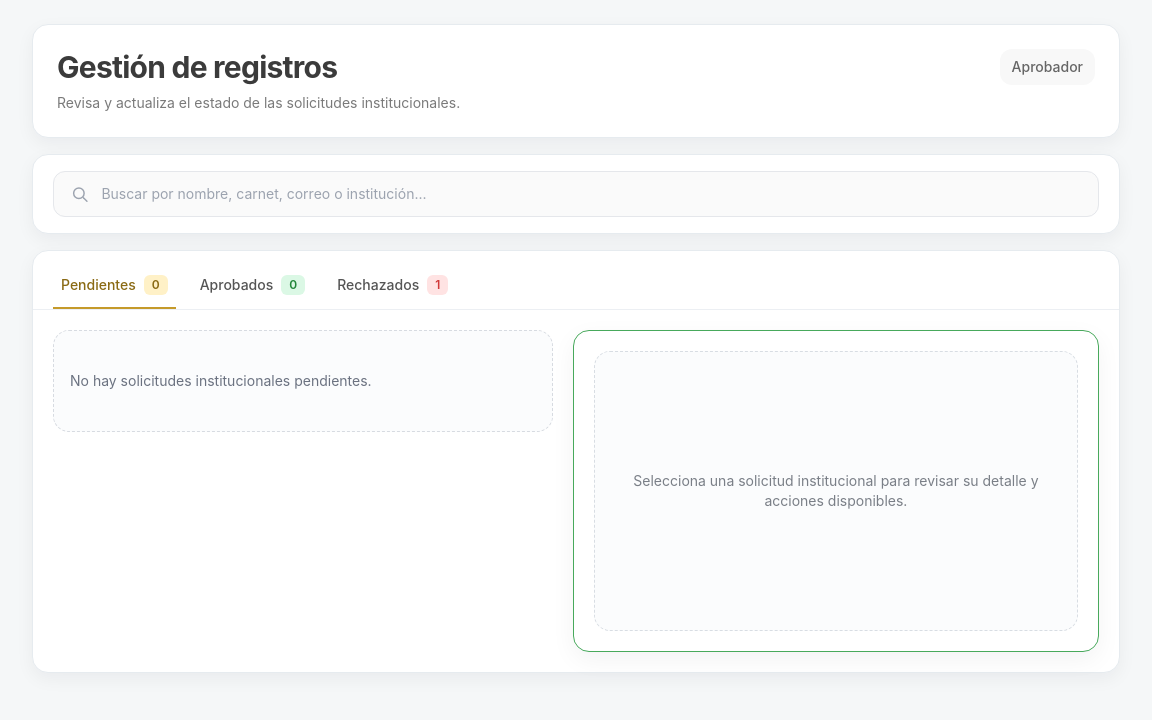
Test: MX-02 | Gestión de instituciones, administradores y wallets | Frontend Admin | Aprobaciones › [MX-02][D-STATE-005][INTEGRACION] muestra una solicitud rechazada con su estado final
Click the button "Rechazados 1": (393, 286) x1=329 y1=263 x2=456 y2=309
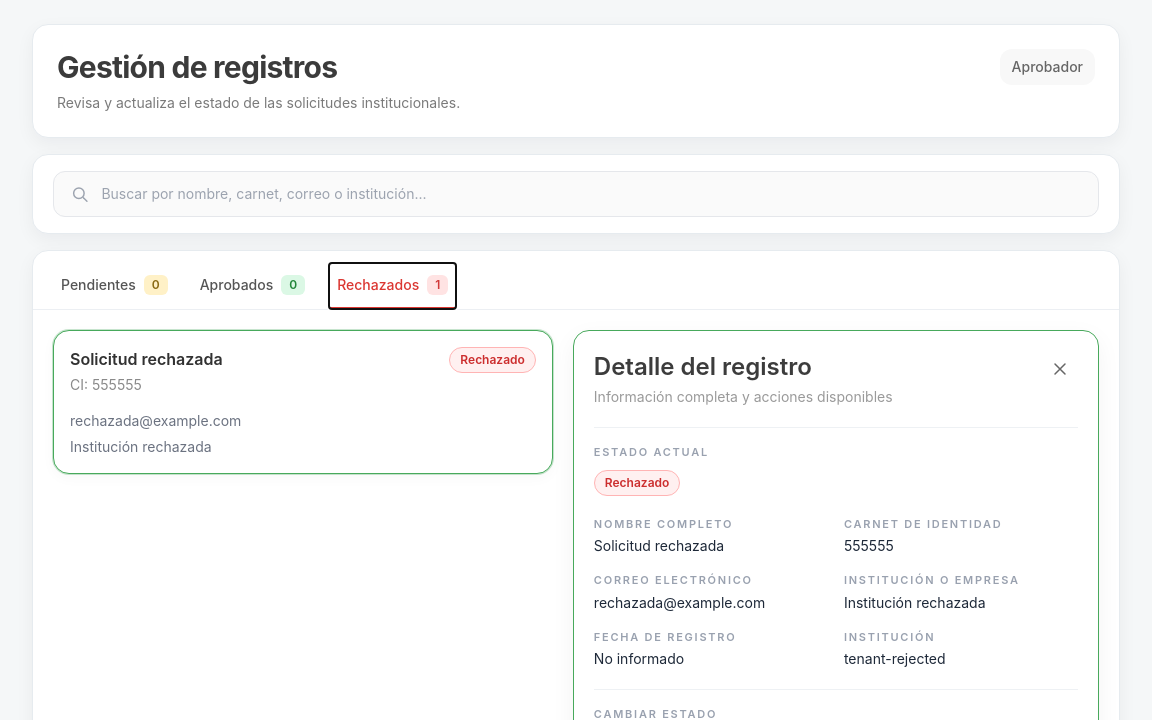
expect the button "Solicitud rechazada" is shown: met, box x1=53 y1=330 x2=553 y2=474
expect the 1st text "Rechazado" is shown: met, box x1=449 y1=347 x2=536 y2=373
